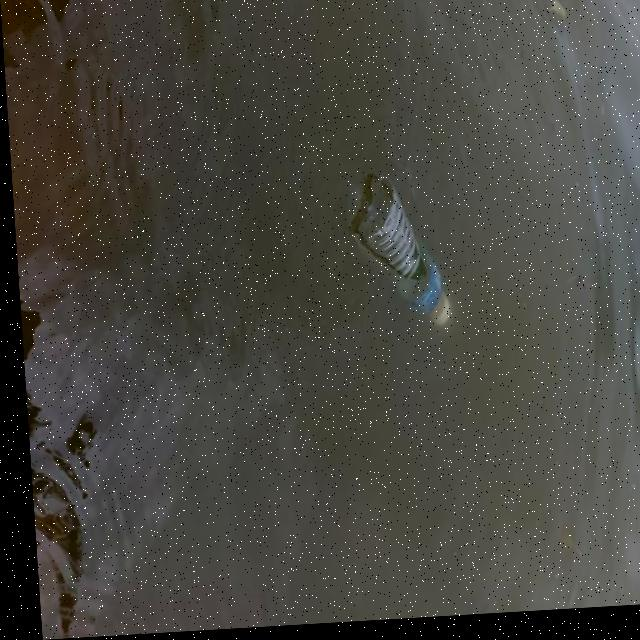waterbottle: (330, 166, 452, 332)
